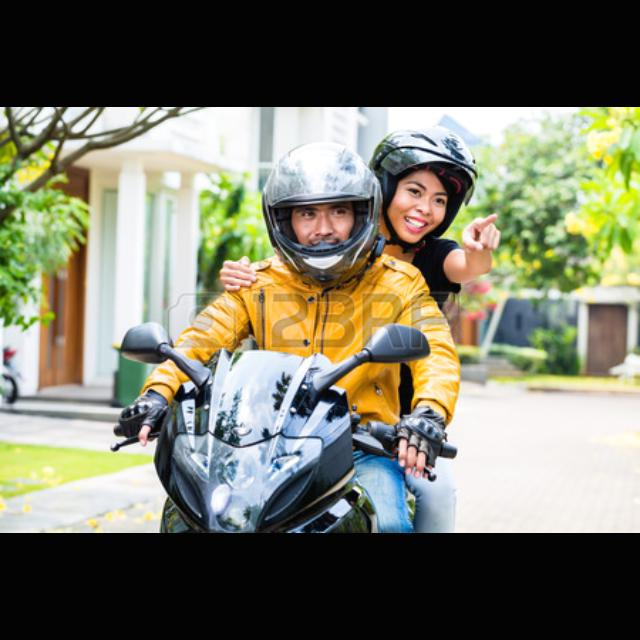With Helmet: (254, 134, 392, 290)
